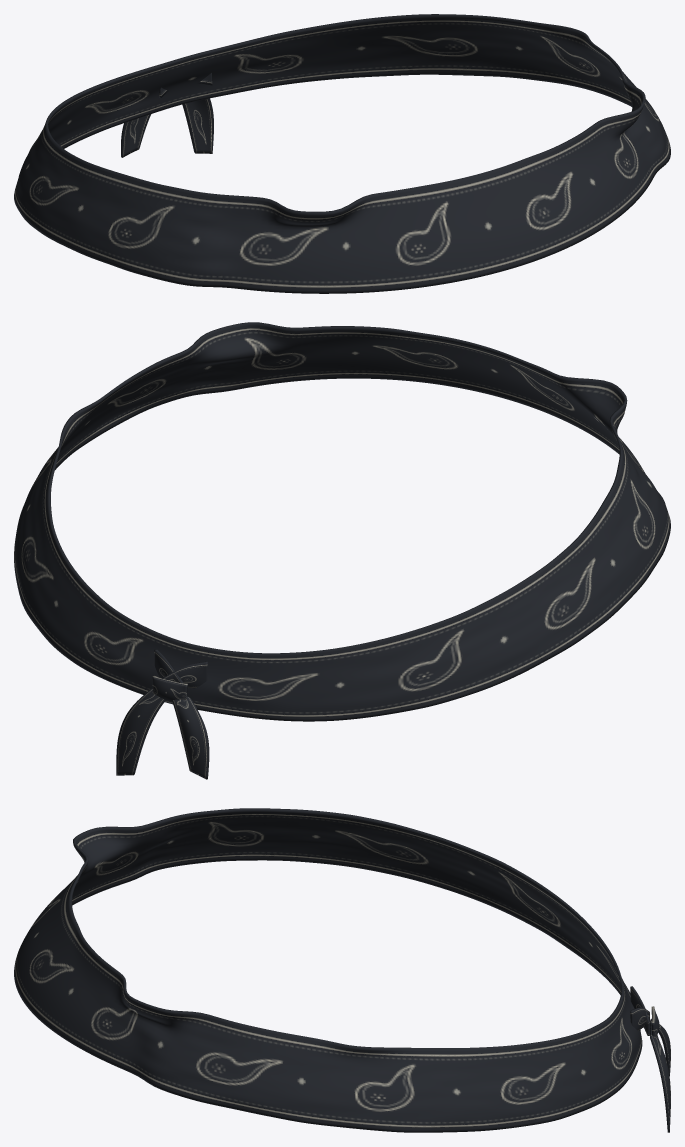
The model's file is Masculine-curly-top-bandana.glb.
The picture shows the model from 3 angles, top to bottom: view 1: azimuth 30°, elevation 25°; view 2: azimuth 150°, elevation 25°; view 3: azimuth 270°, elevation 25°; orthographic projection. The views are drawn at different scales.
Visible parts, largest first — view 1: Bandana / folded forehead wrap, Bandana / falling tie 1, Bandana / falling tie -1; view 2: Bandana / folded forehead wrap, Bandana / falling tie 1, Bandana / falling tie -1, Bandana / woven gather -1, Bandana / knot cross-fold; view 3: Bandana / folded forehead wrap, Bandana / falling tie 1.
Part boxes in pixels (x1=…): Bandana / folded forehead wrap: x1=14, y1=14, x2=670, y2=293; Bandana / falling tie 1: x1=182, y1=98, x2=213, y2=153; Bandana / falling tie -1: x1=121, y1=114, x2=151, y2=157; Bandana / folded forehead wrap: x1=14, y1=322, x2=670, y2=721; Bandana / falling tie 1: x1=116, y1=688, x2=165, y2=775; Bandana / falling tie -1: x1=172, y1=696, x2=209, y2=779; Bandana / woven gather -1: x1=162, y1=661, x2=207, y2=688; Bandana / knot cross-fold: x1=152, y1=675, x2=187, y2=703; Bandana / folded forehead wrap: x1=14, y1=808, x2=642, y2=1132; Bandana / falling tie 1: x1=650, y1=1020, x2=670, y2=1132.
Size of the model in its own units: 0.7255 by 0.2664 by 0.7555.
Materials: 1 (1 with a texture image).
